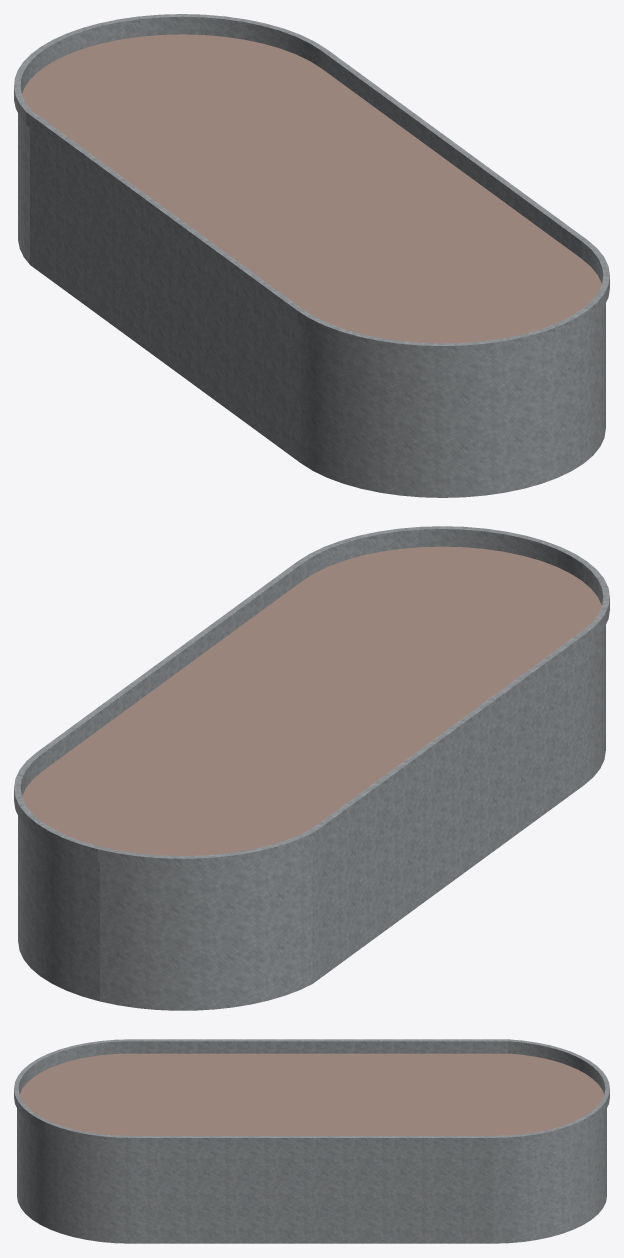
Rendered from trough.gltf.
The picture shows the model from 3 angles, top to bottom: view 1: azimuth 30°, elevation 25°; view 2: azimuth 150°, elevation 25°; view 3: azimuth 270°, elevation 25°; orthographic projection. The views are drawn at different scales.
Visible parts, largest first — view 1: trough; view 2: trough; view 3: trough.
Part boxes in pixels (x1,y1,x2,y2): trough: [14, 14, 609, 497]; trough: [14, 526, 609, 1010]; trough: [14, 1039, 609, 1243].
Size of the model in its own units: 6.87 by 3.47 by 17.54.
Materials: 3 (1 with a texture image).
